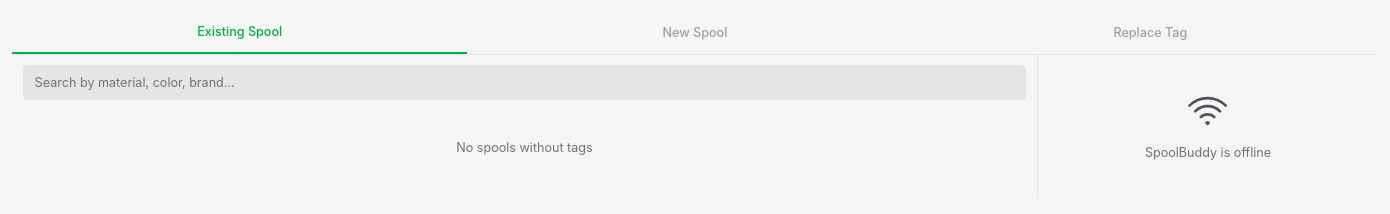
Scenario: SpoolBuddyWriteTagPage › switches to replace tab and shows appropriate empty message
The width and height of the screenshot is (1390, 214).
Step 1. Click the button "Replace Tag" → (1150, 33), box [923,12,1378,54]
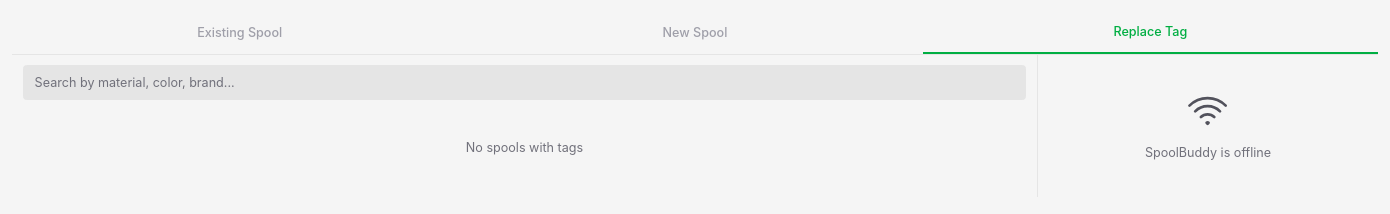
Now the text "No spools with tags" is shown, box [466,140,583,155]
